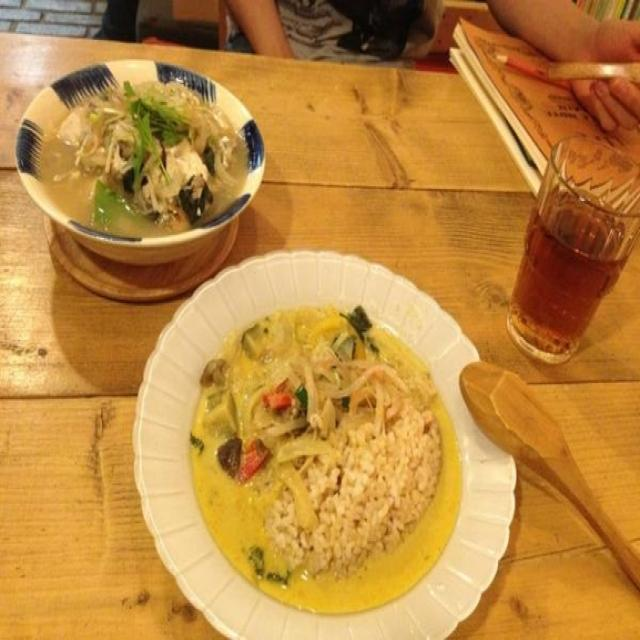面条主食: (64, 2, 341, 640)
